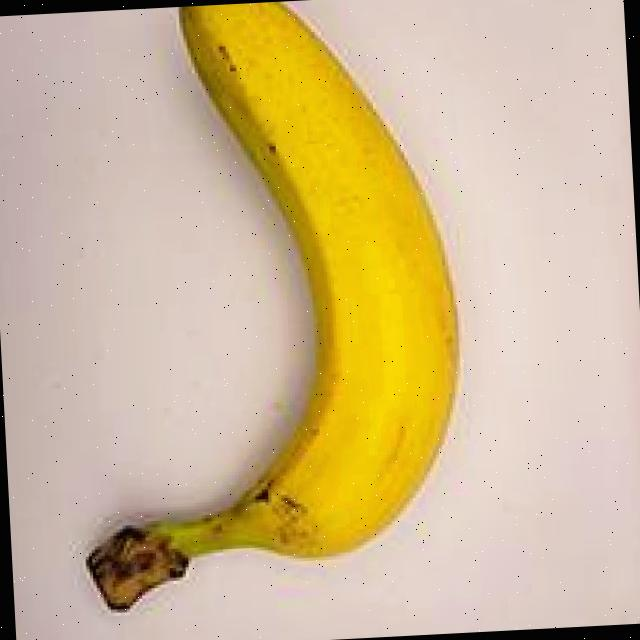Ripe: (40, 0, 506, 611)
